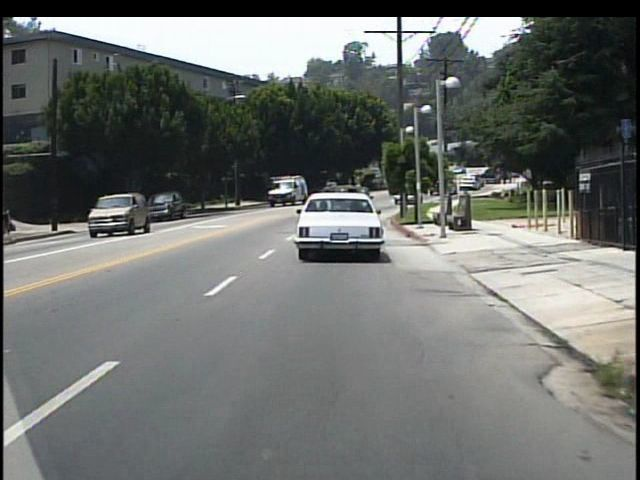person: (3, 203, 18, 236)
